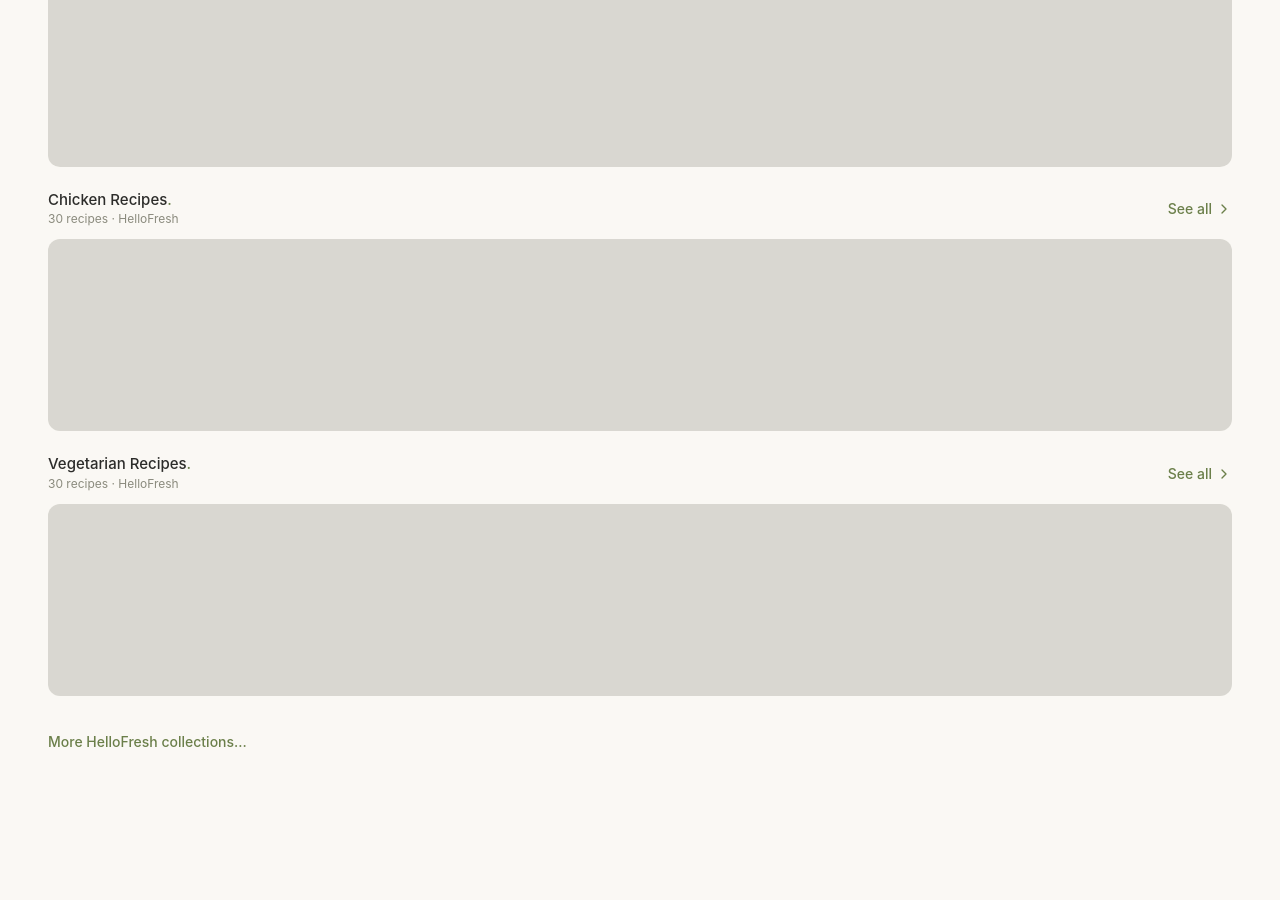
it: Recipes page — themes › "More collections" sheet › closes when the close button is clicked
(page scrolled)
Click the button "More HelloFresh collections…": (147, 742) [48, 720, 1232, 764]
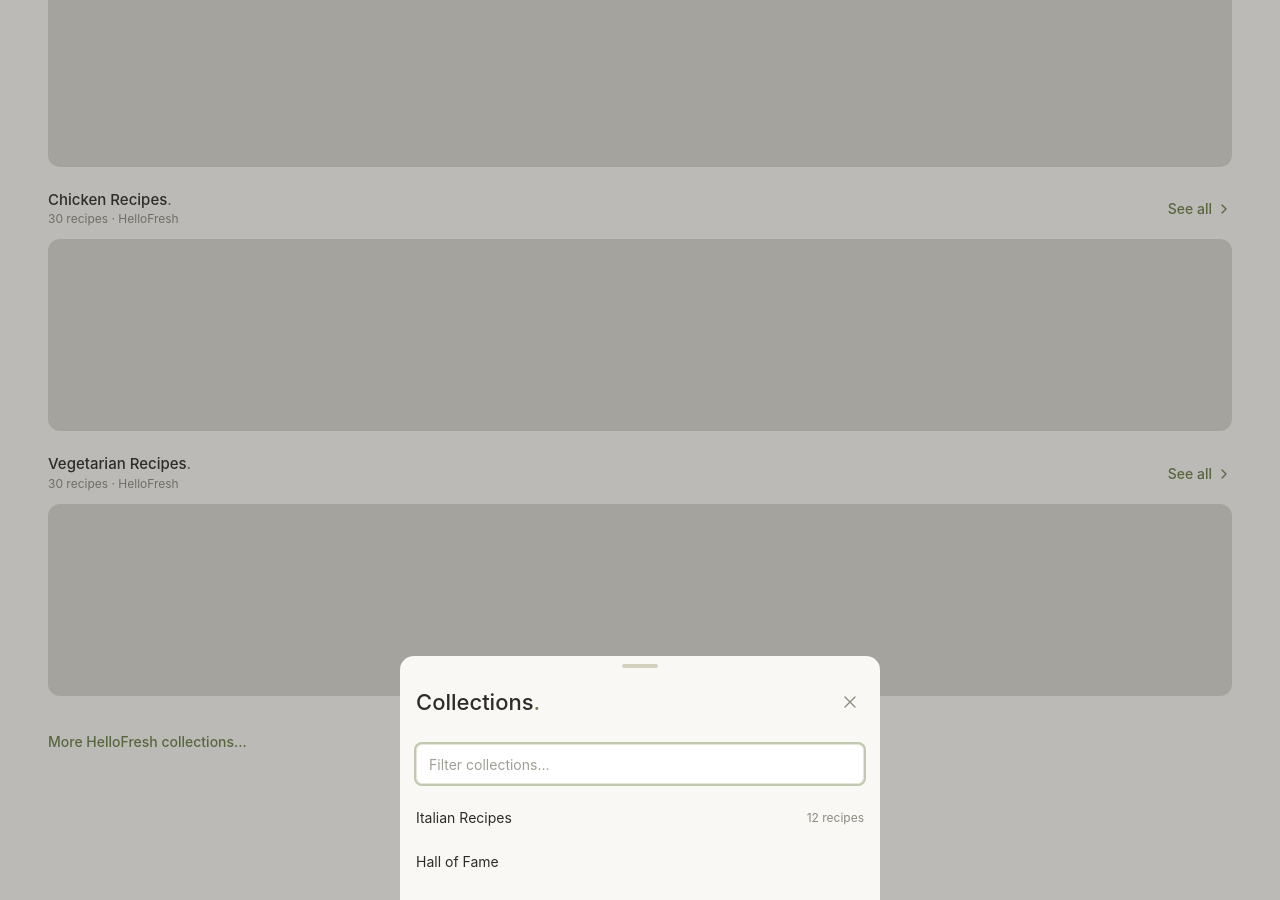
Click the button named "Close": (850, 702) [828, 680, 872, 724]
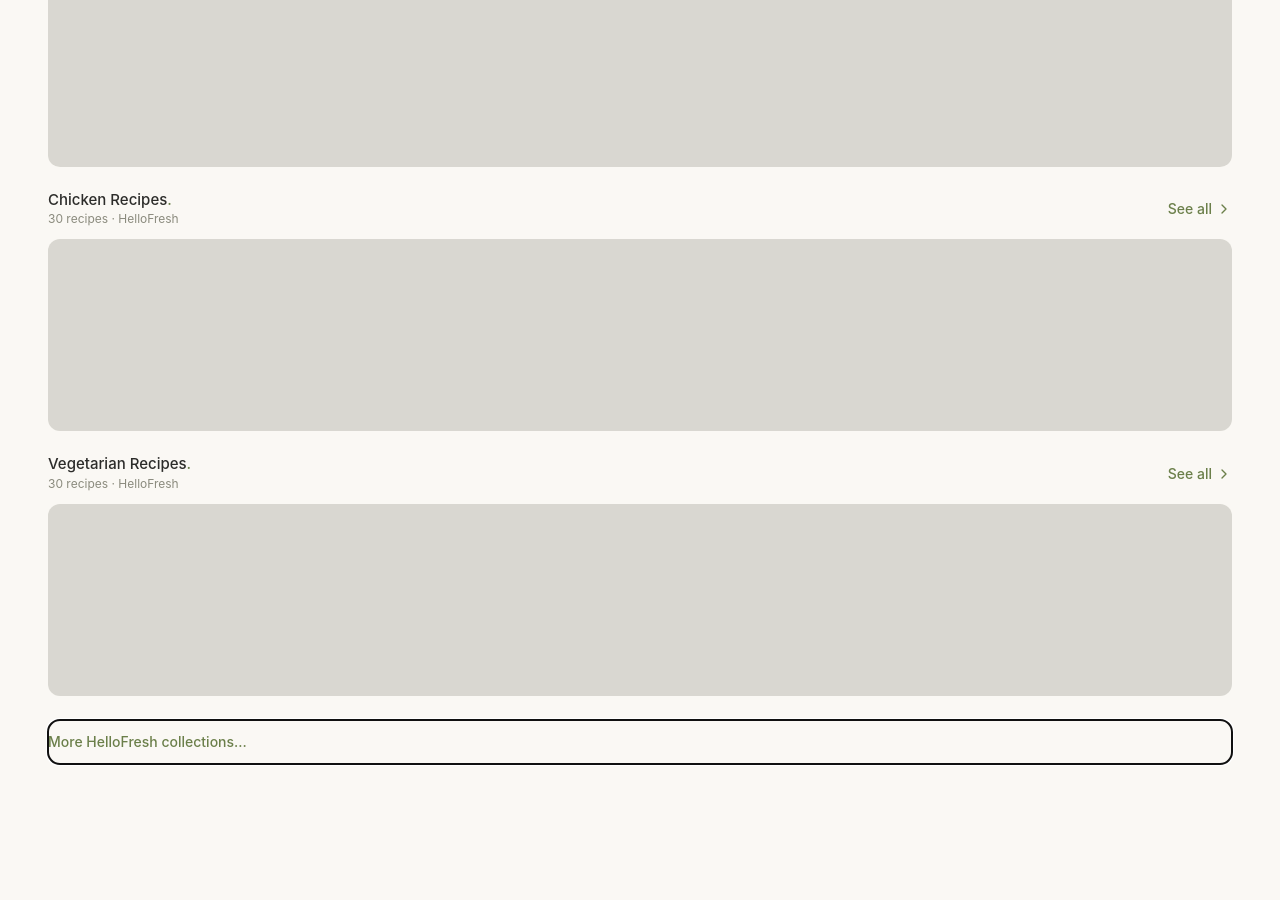
Expected: the dialog is gone
